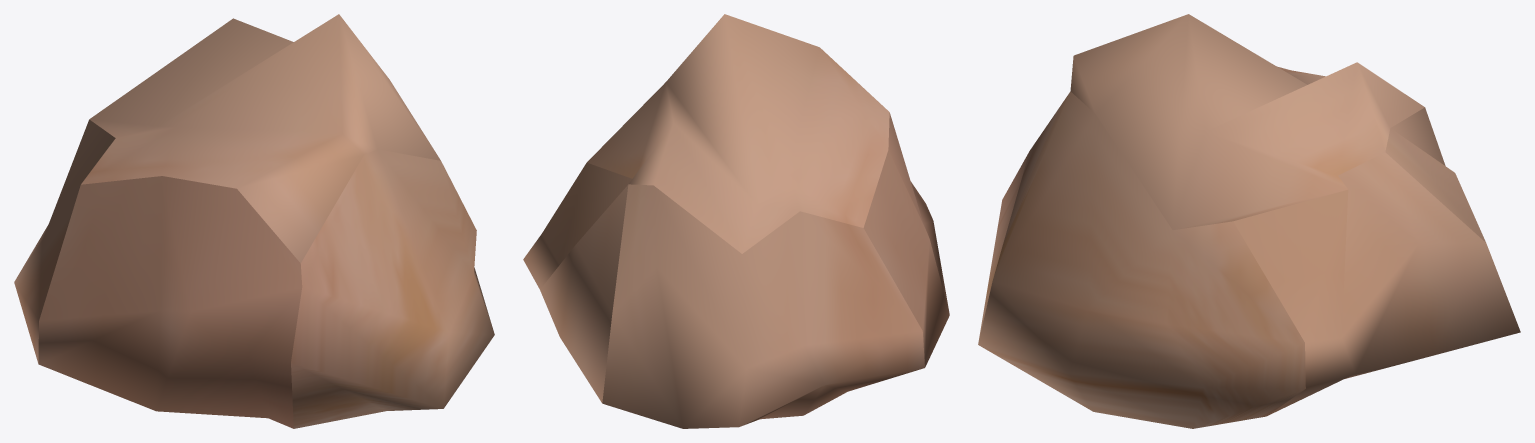
The model's file is sand_mitame_rock_big.fbx.
3 views of the same model, side by side, from view 1: azimuth 30°, elevation 25°; view 2: azimuth 150°, elevation 25°; view 3: azimuth 270°, elevation 25° (orthographic). The views are drawn at different scales.
Parts seen in each view (by area): view 1: desert_rock_medium; view 2: desert_rock_medium; view 3: desert_rock_medium.
Boxes of the visible parts, x1,y1,x2,y2 form: desert_rock_medium: (14, 14, 494, 428); desert_rock_medium: (523, 14, 949, 428); desert_rock_medium: (978, 14, 1520, 428).
Bounding box in the file's own units: 36.68 × 28.41 × 38.35.
